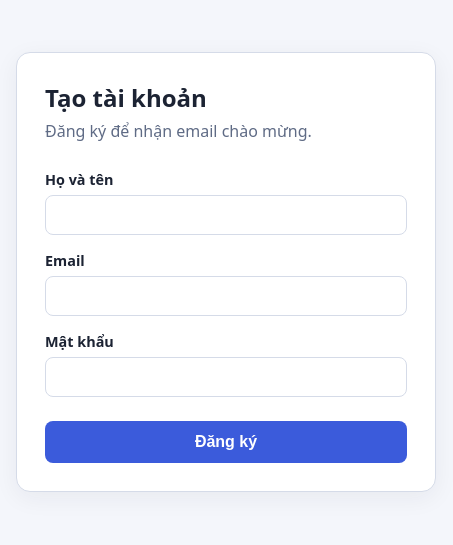
App (form đăng ký) › F-04 đăng ký thành công: gọi API đúng dữ liệu, báo thành công và xoá form
In the field labelled "Họ và tên": coordinates (226, 215) [45,195,407,235], type "Nguyen Van A"
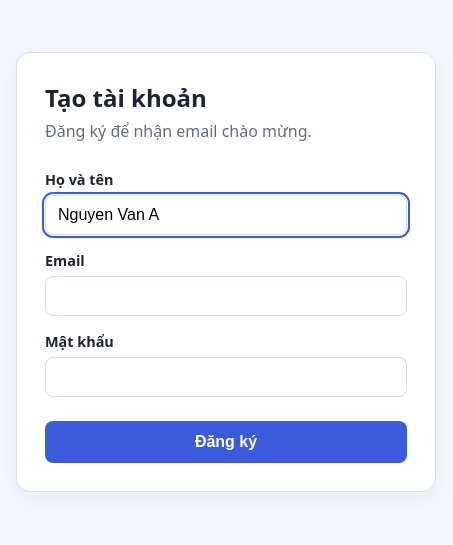
In the field labelled "Email": coordinates (226, 296) [45,276,407,316], type "a@example.com"
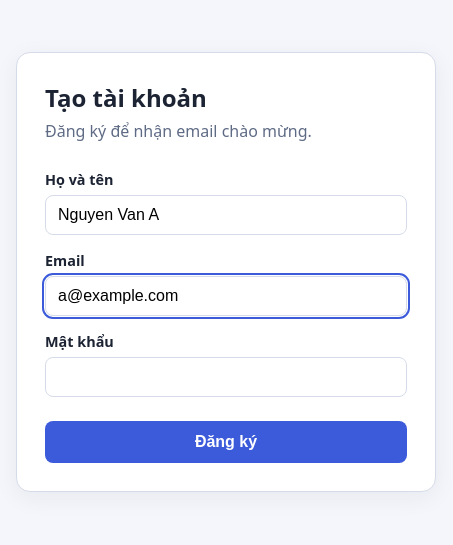
In the password field labelled "Mật khẩu": coordinates (226, 377) [45,357,407,397], type "secret123"
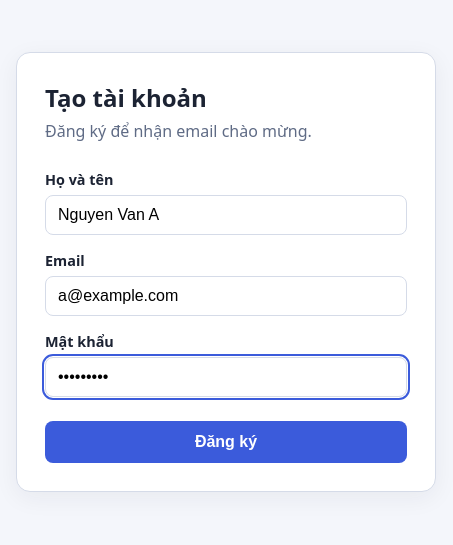
Click the button "Đăng ký": coordinates (226, 442) [45,421,407,463]
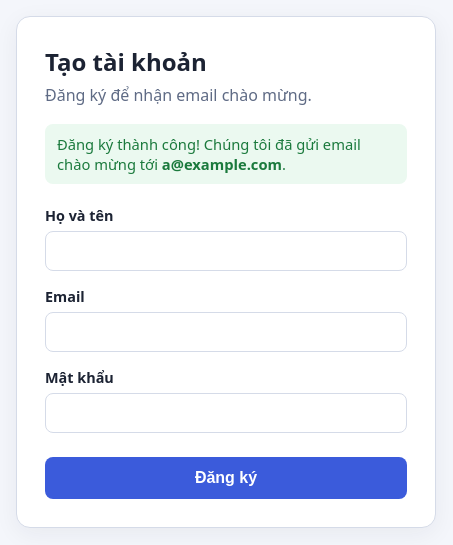
Now the message shows "Đăng ký thành công", box [57,134,361,174]
Now the message shows "a@example.com", box [162,154,282,174]
Now the field labelled "Email" is empty, box [45,312,407,352]
